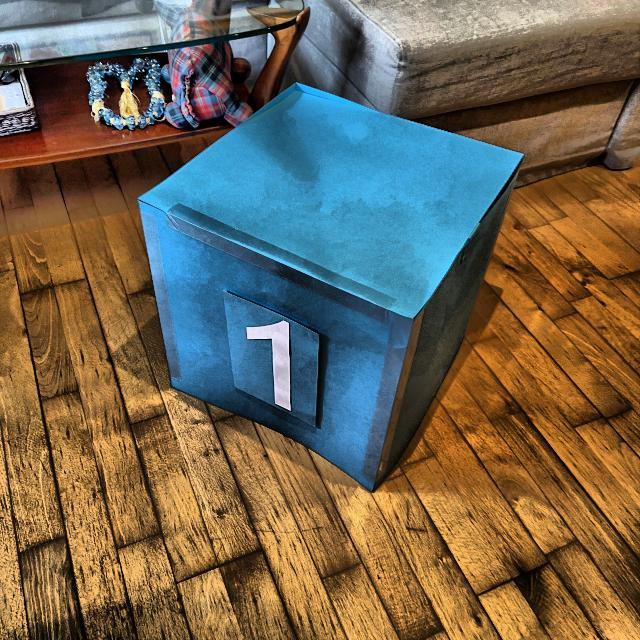blue box: (127, 70, 526, 502)
one: (238, 311, 304, 417)
